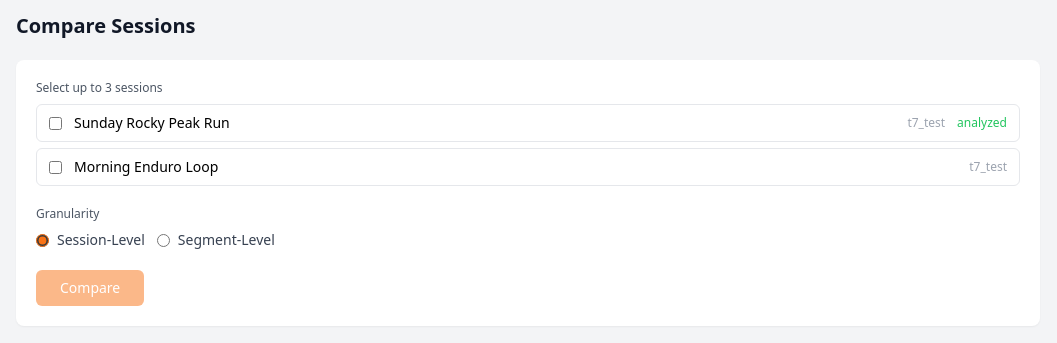
Test: ComparePage › Compare button becomes enabled when 2 sessions are selected
What coordinates should you click on to do the following:
click the checkbox labelled "Sunday Rocky Peak Run t7_test analyzed"
I would click on:
 (56, 123)
Its box is [49,116,62,130].
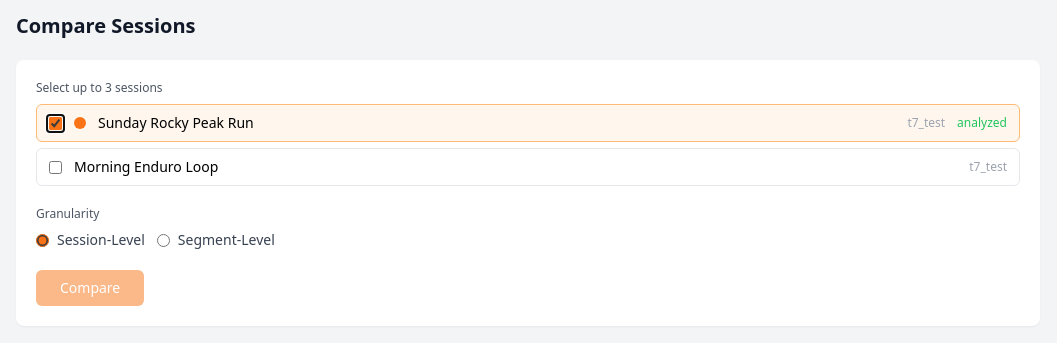
What coordinates should you click on to do the following:
click the checkbox labelled "Morning Enduro Loop t7_test"
I would click on:
 (56, 167)
Its box is [49,160,62,174].
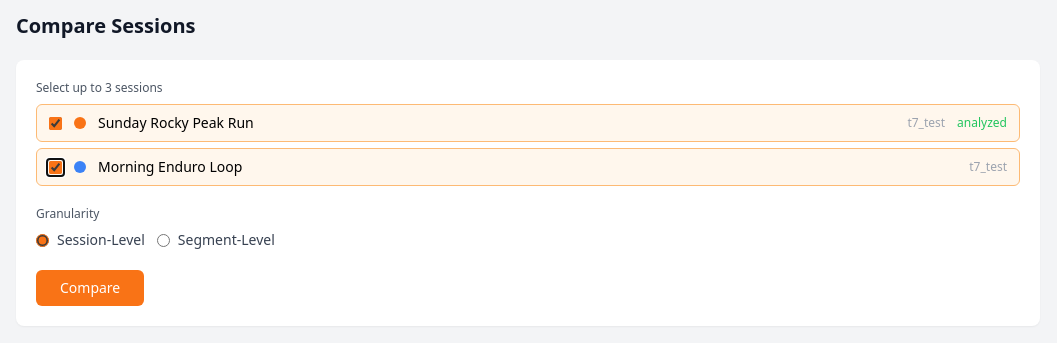
Expected: the button "Compare" is enabled, [36,270,144,306]
